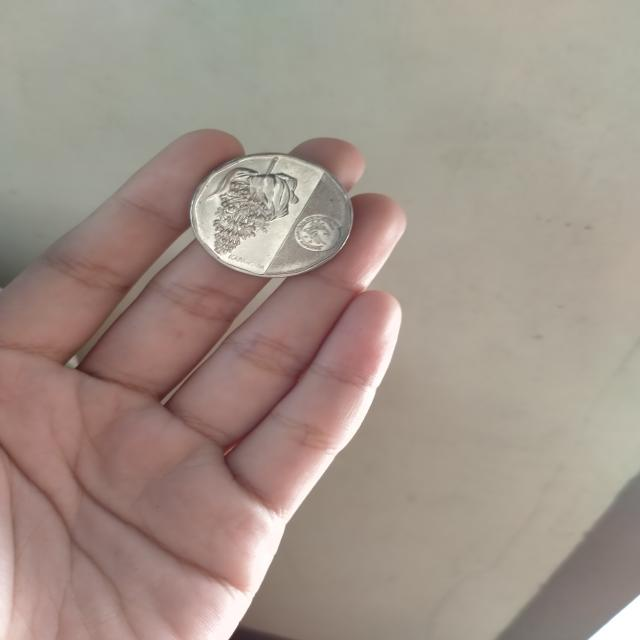10_New_Back: (205, 146, 301, 266)
